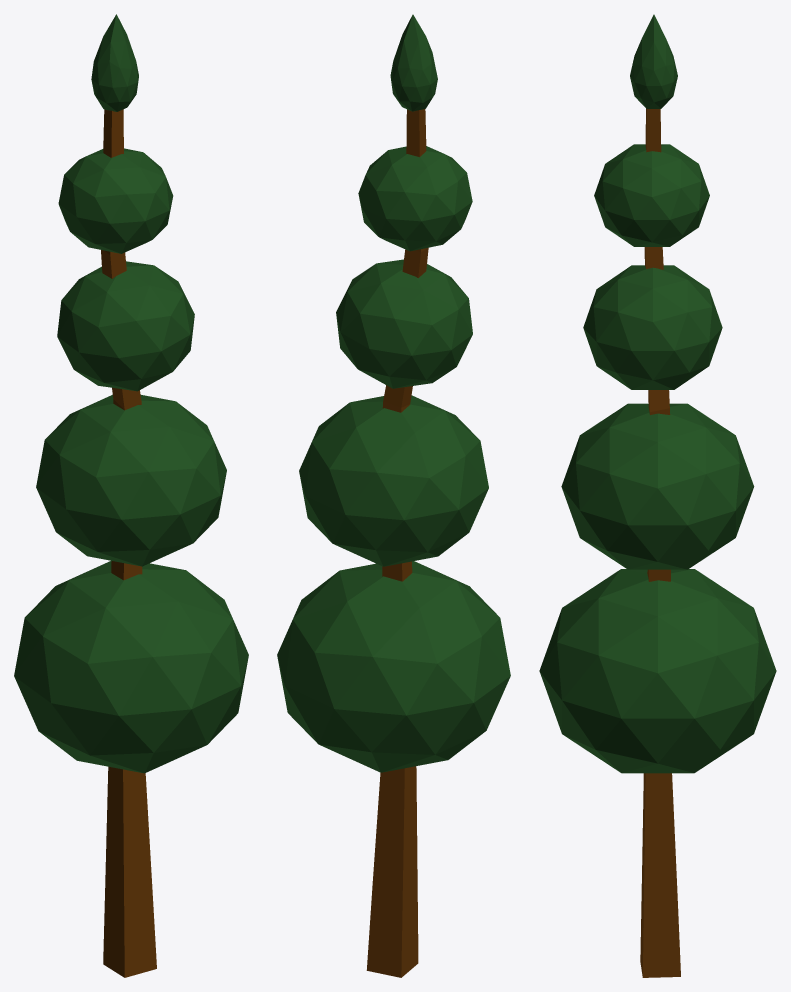
File: TreeC5.fbx
The picture shows the model from 3 angles, left to right: view 1: azimuth 30°, elevation 25°; view 2: azimuth 150°, elevation 25°; view 3: azimuth 270°, elevation 25°; orthographic projection.
Parts seen in each view (by area): view 1: TreeC5; view 2: TreeC5; view 3: TreeC5.
Part boxes in pixels (box(x1,y1,x2,y2)): TreeC5: box(14, 14, 248, 977); TreeC5: box(277, 14, 510, 977); TreeC5: box(539, 14, 776, 977).
Size of the model in its own units: 714 by 679 by 3147.
